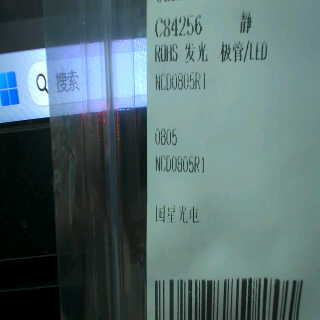LED: (183, 41, 269, 68)
